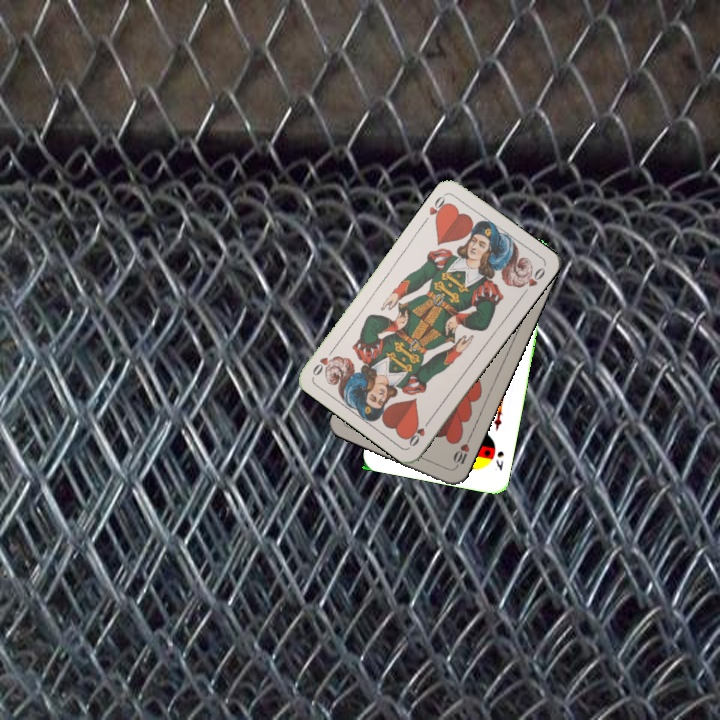H10: (449, 433, 473, 471)
HO: (404, 414, 434, 449), (425, 190, 452, 225)
SK: (492, 447, 506, 473)
